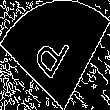P_SW: (33, 24, 77, 86)
